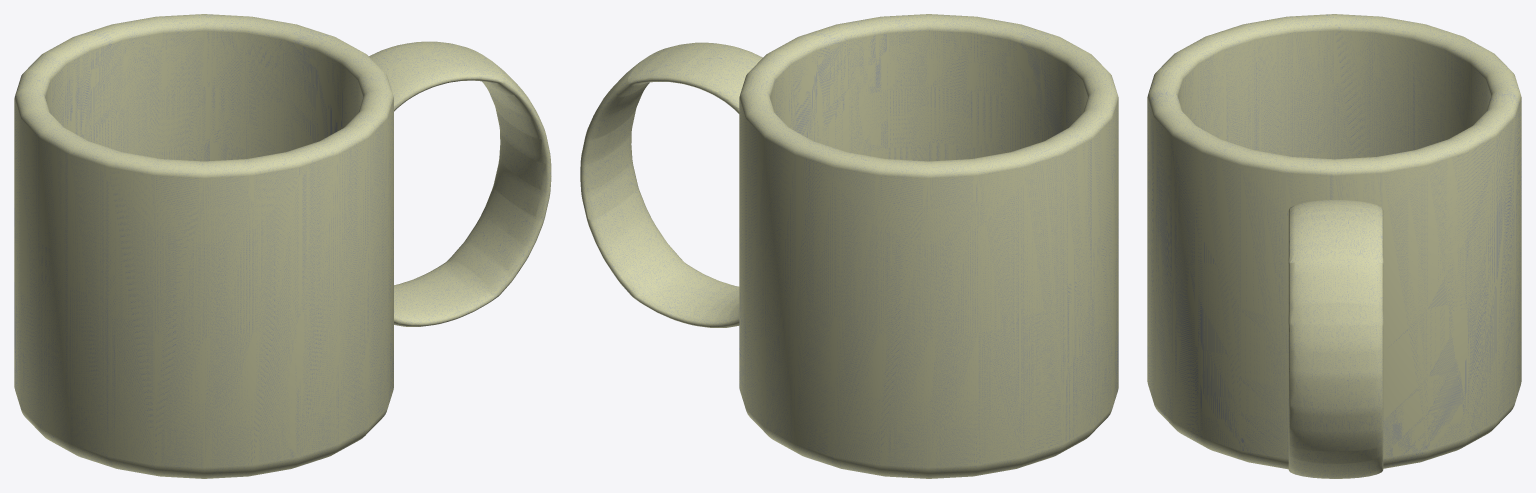
File: cup_2.dae
3 renders of one model, left to right at view 1: azimuth 30°, elevation 25°; view 2: azimuth 150°, elevation 25°; view 3: azimuth 270°, elevation 25°, orthographic.
Parts seen in each view (by area): view 1: group_0, group_0_001; view 2: group_0, group_0_001; view 3: group_0, group_0_001.
Part boxes in pixels (<box>): group_0: <box>14,14,393,478</box>; group_0_001: <box>340,41,551,326</box>; group_0: <box>739,14,1118,478</box>; group_0_001: <box>580,42,792,327</box>; group_0: <box>1147,14,1521,469</box>; group_0_001: <box>1288,199,1383,478</box>.
Bounding box in the file's own units: 0.1234 × 0.0818 × 0.0766.
